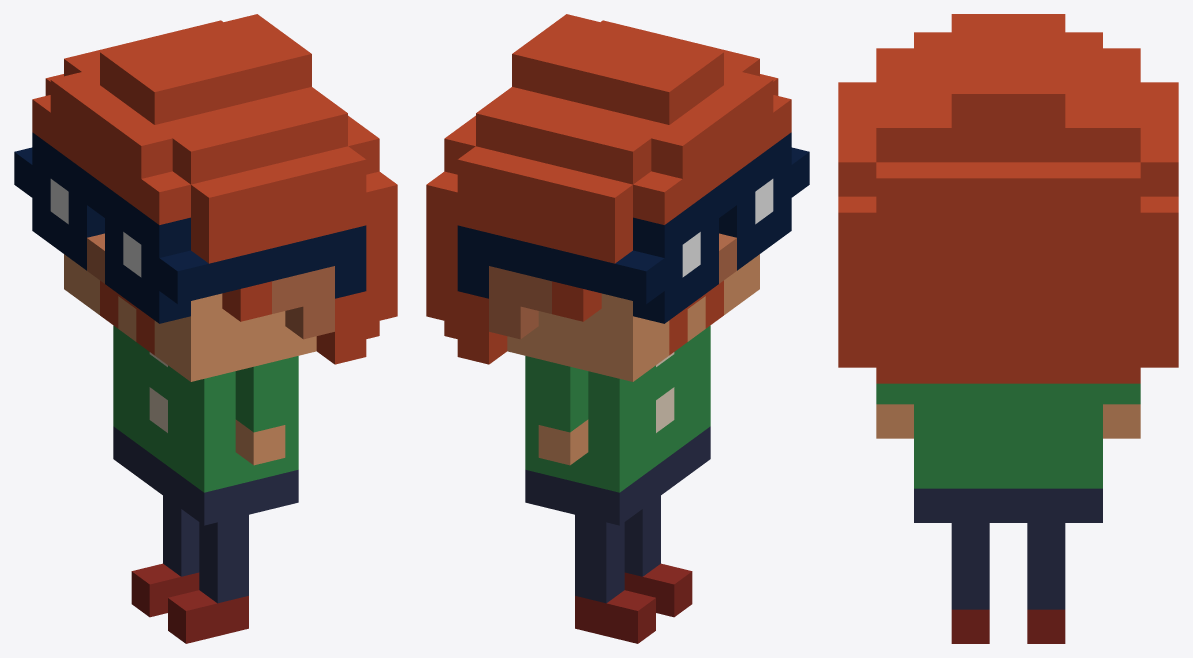
Rendered from Char11.obj.
3 views of the same model, side by side, from view 1: azimuth 30°, elevation 25°; view 2: azimuth 150°, elevation 25°; view 3: azimuth 270°, elevation 25° (orthographic). The views are drawn at different scales.
Bounding box in the file's own units: 0.7 × 1.7 × 0.9.
1 material, 1 textured.
